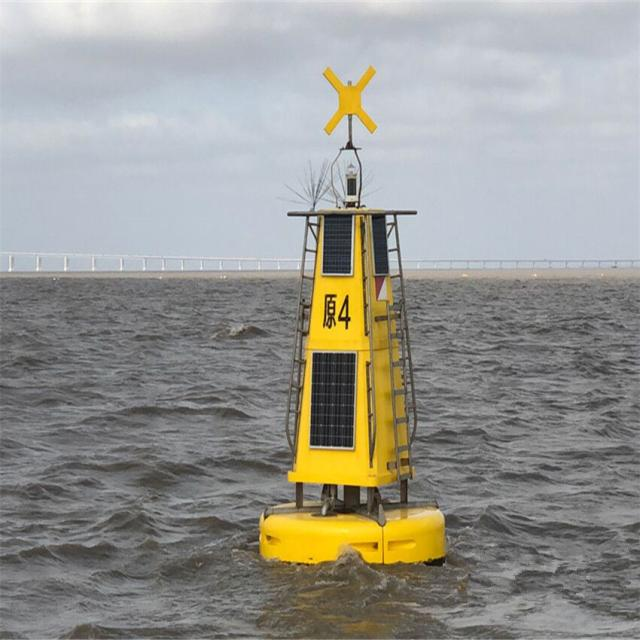buoy: (259, 61, 451, 569)
